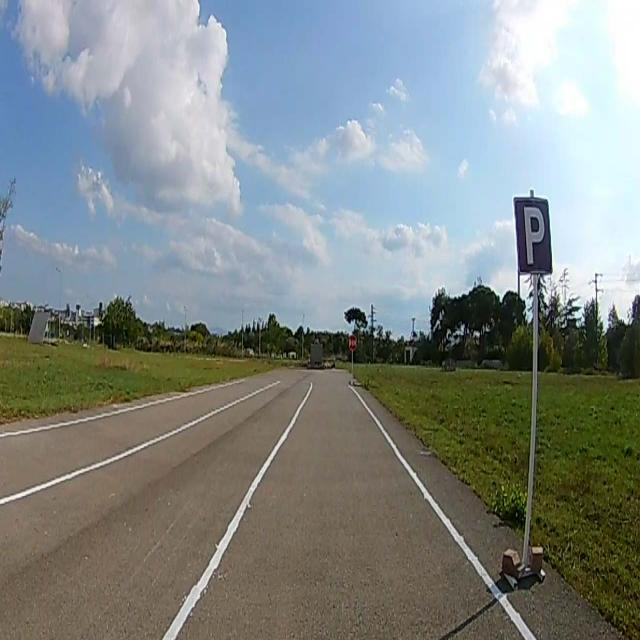park: (513, 197, 553, 271)
